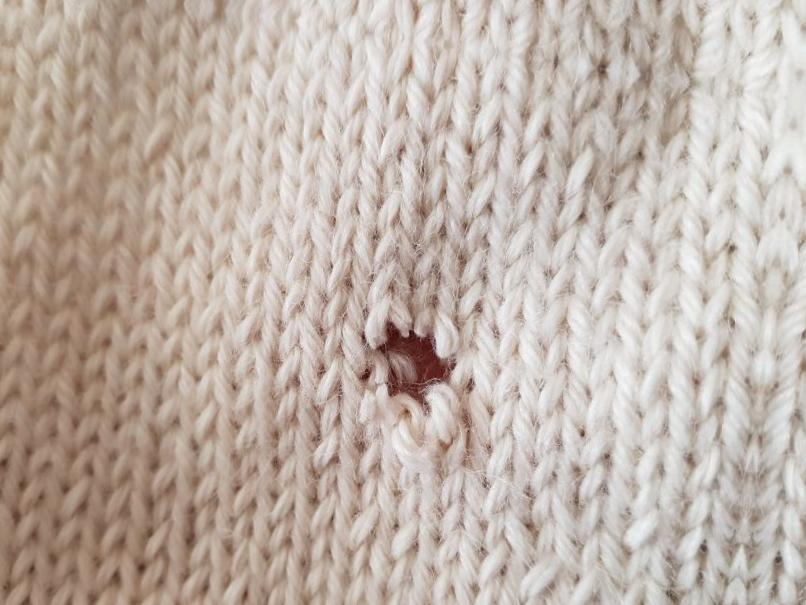hole: (351, 312, 476, 430)
